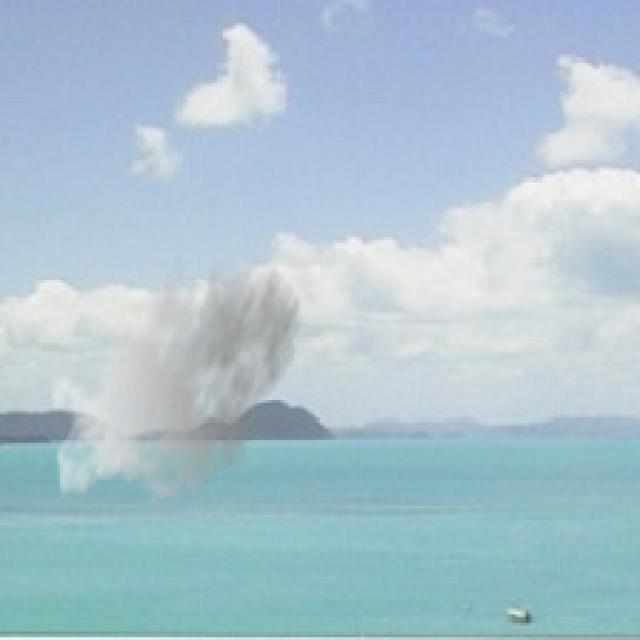smoke: (48, 243, 303, 511)
